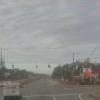Tree: (53, 53, 77, 84)
